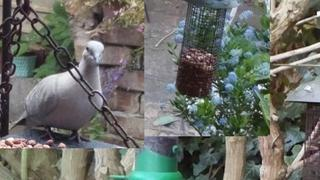collared dove: (9, 40, 104, 143)
